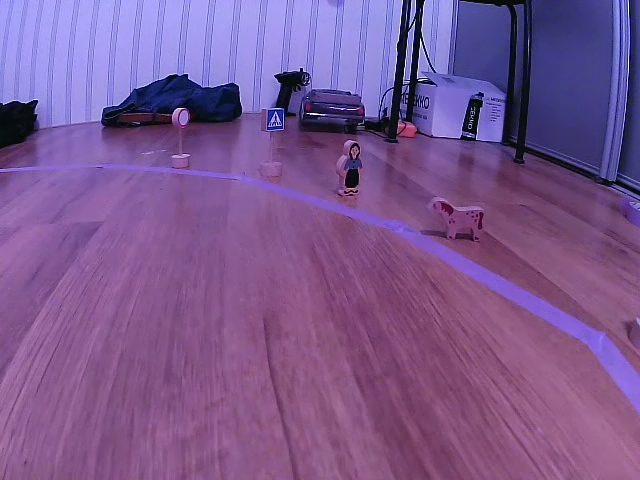mens: (337, 138, 361, 196)
paard: (427, 196, 487, 245)
wegdicht: (172, 108, 192, 131)
zebrapad: (262, 109, 286, 132)
